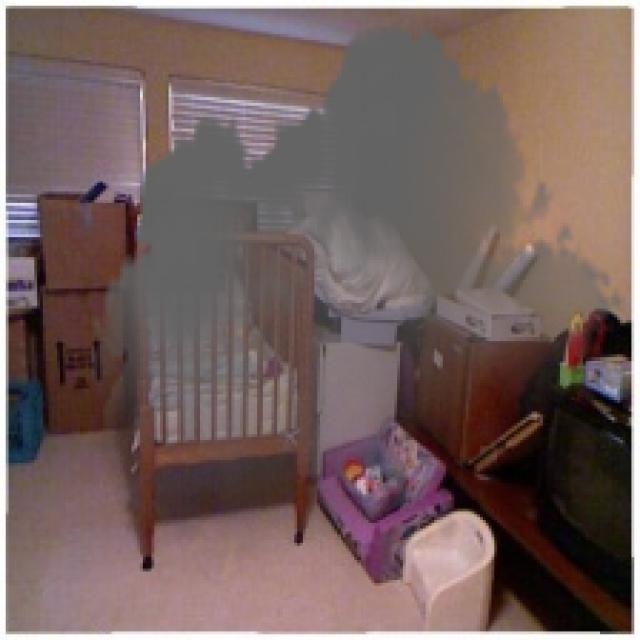smoke: (91, 6, 626, 566)
